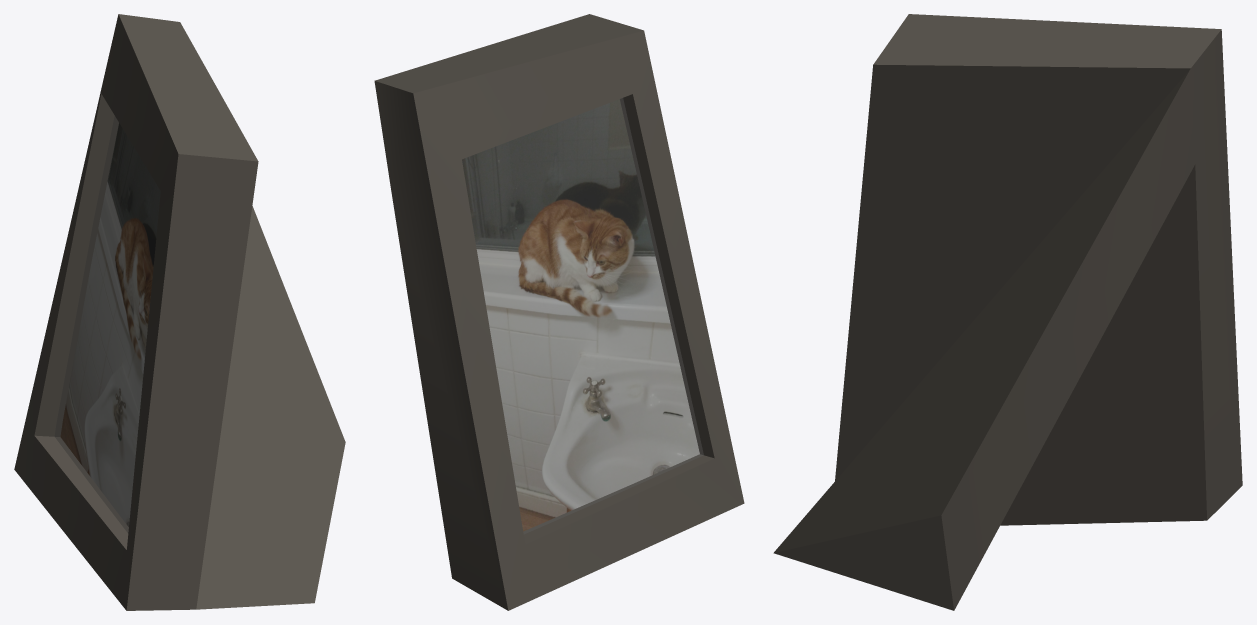
Rendered from Photo Frame 01.fbx.
The picture shows the model from 3 angles, left to right: view 1: azimuth 30°, elevation 25°; view 2: azimuth 150°, elevation 25°; view 3: azimuth 270°, elevation 25°; orthographic projection. The views are drawn at different scales.
Parts seen in each view (by area): view 1: Photo_Frame_01, pPlane2, pPlane1; view 2: Photo_Frame_01, pPlane2, pPlane1; view 3: Photo_Frame_01.
Part boxes in pixels (x1,y1,x2,y2): Photo_Frame_01: (14, 14, 345, 610); pPlane2: (55, 116, 160, 532); pPlane1: (60, 123, 160, 526); Photo_Frame_01: (374, 14, 744, 610); pPlane2: (462, 98, 703, 533); pPlane1: (462, 99, 699, 531); Photo_Frame_01: (773, 14, 1242, 610).
Bounding box in the file's own units: 0.3618 × 0.6296 × 0.5006.
Materials: 3 (1 with a texture image).
